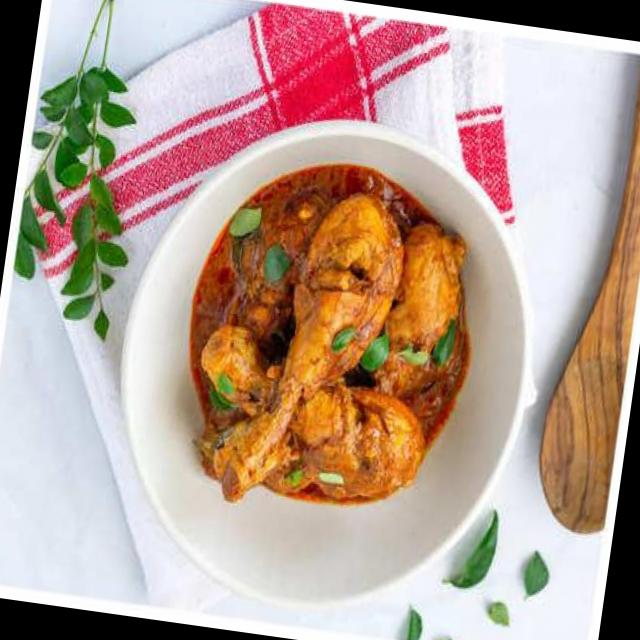chicken: (139, 158, 520, 532)
